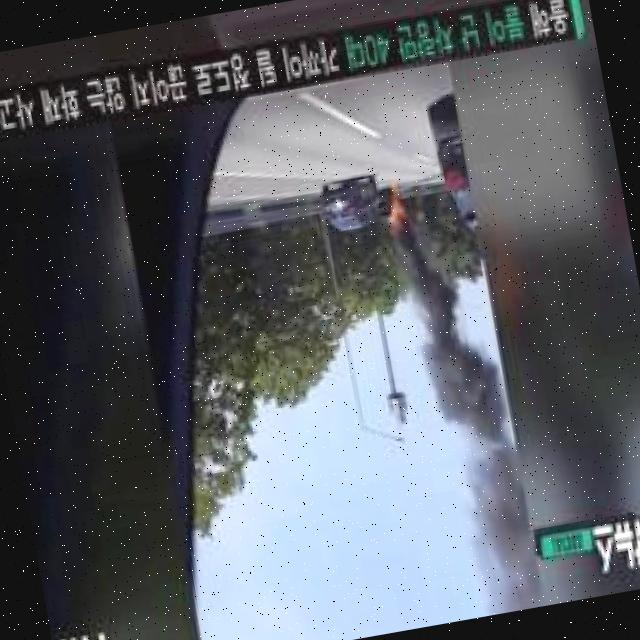fire: (382, 188, 411, 228)
